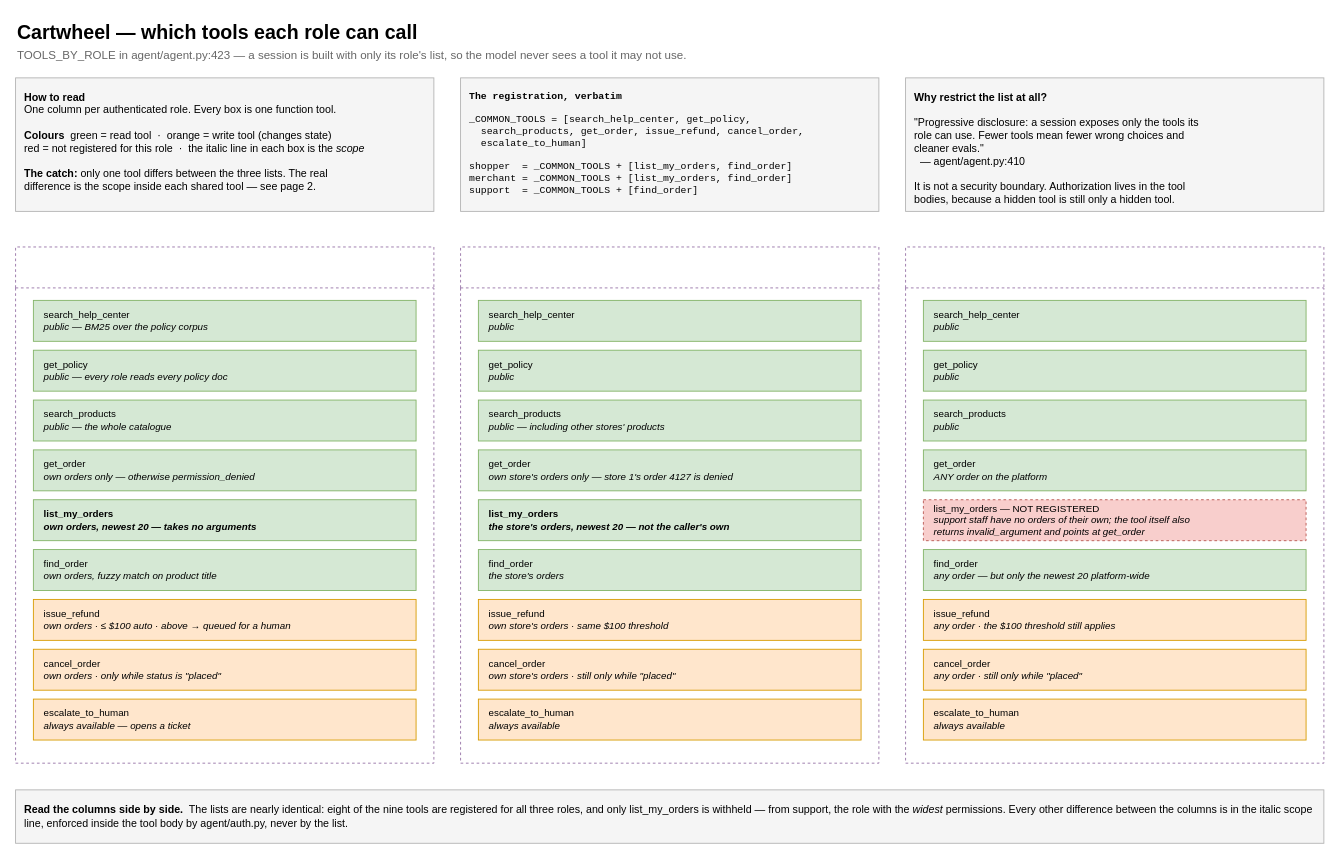
Some shapes in this 1339 by 859 pixel diagram are drawn without their labels. Here are the shapes that lost their labels. From the top down, the box of each, then its label:
(15, 246, 434, 763): shopper — user 1 9 tools
(460, 246, 879, 763): merchant — user 9002, store 2 9 tools
(905, 246, 1324, 763): support — user 9501 8 tools
